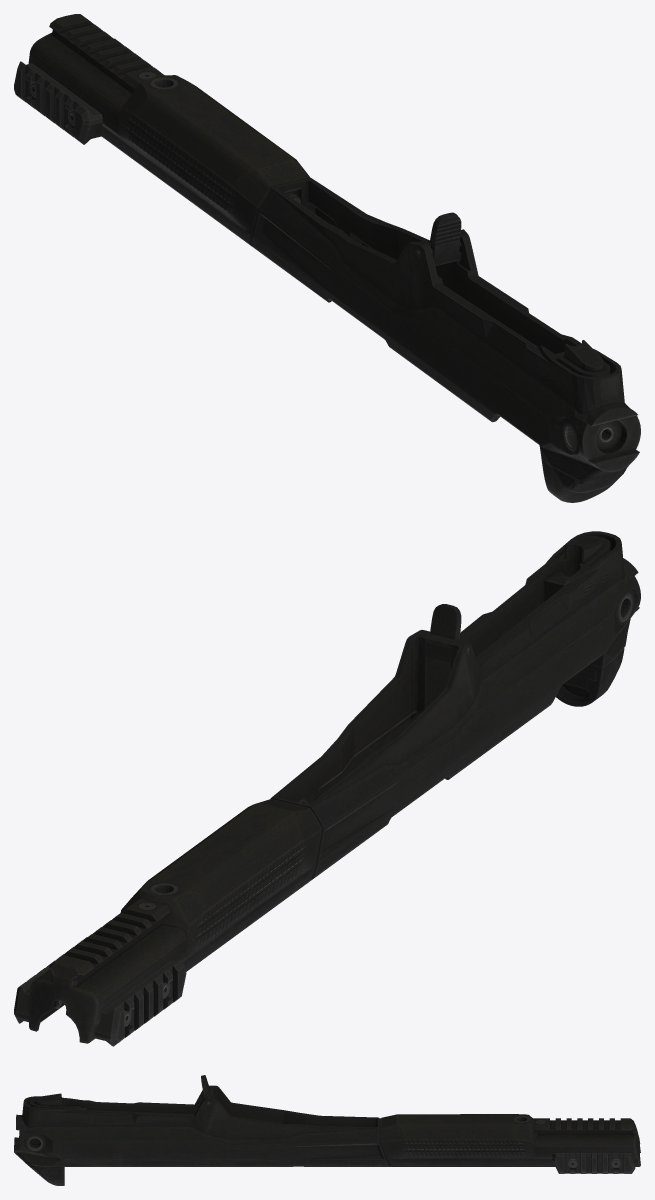
3 views of the same model, one above another, from view 1: azimuth 30°, elevation 25°; view 2: azimuth 150°, elevation 25°; view 3: azimuth 270°, elevation 25° (orthographic). The views are drawn at different scales.
Parts seen in each view (by area): view 1: TW_5d0236dad7ad1a0940739d29_PZ_Import; view 2: TW_5d0236dad7ad1a0940739d29_PZ_Import; view 3: TW_5d0236dad7ad1a0940739d29_PZ_Import.
Part boxes in pixels (box(x1,y1,x2,y2)): TW_5d0236dad7ad1a0940739d29_PZ_Import: box(14, 14, 640, 502); TW_5d0236dad7ad1a0940739d29_PZ_Import: box(14, 531, 640, 1046); TW_5d0236dad7ad1a0940739d29_PZ_Import: box(14, 1075, 640, 1185).
Bounding box in the file's own units: 0.0358 × 0.3354 × 0.0635.
Materials: 1 (1 with a texture image).
